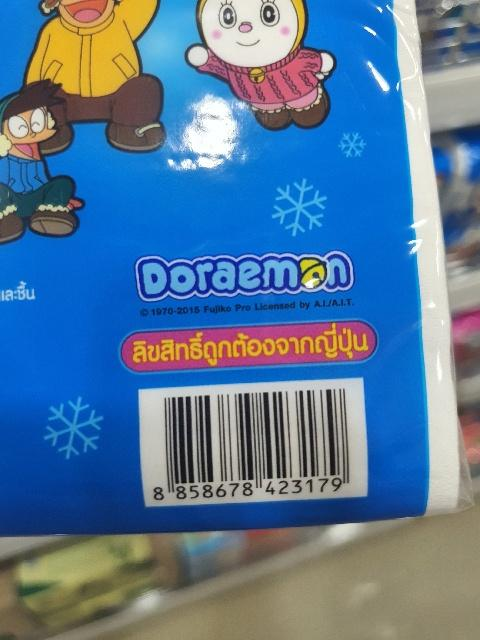Barcode: (146, 388, 363, 508)
